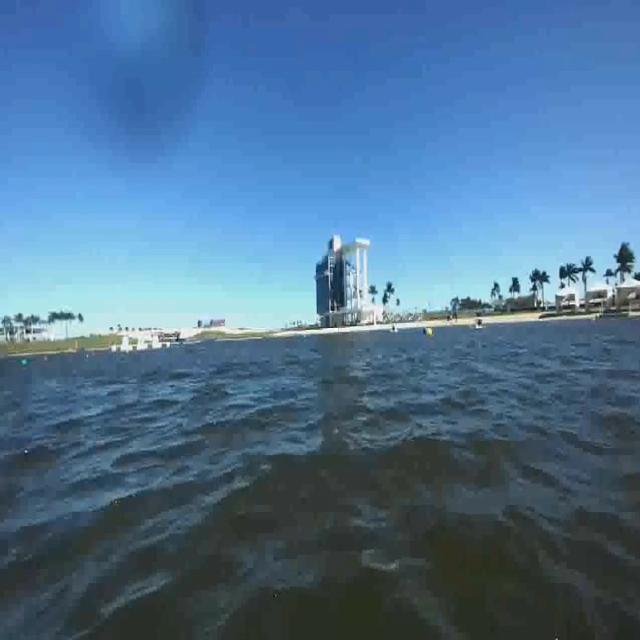yellow-buoy: (426, 326, 434, 338)
